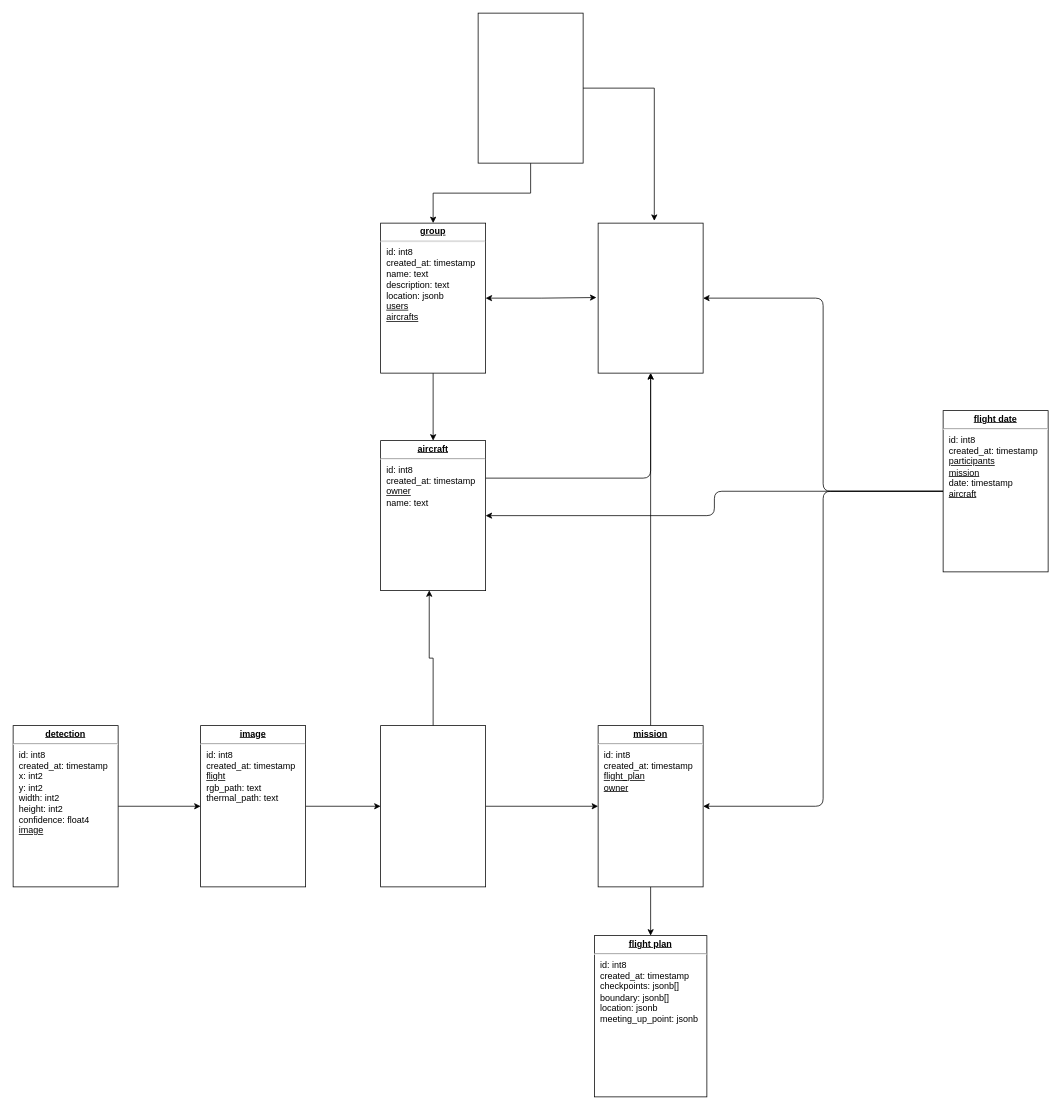
Some shapes in this 1061 by 1110 pixel diagram are drawn without their labels. Each missing label, with the centre of its shape:
"flight id: int8 created_at: timestamp mission start: date end: date aircraft" belongs at point 433,806.
"join_request id: int8 created_at: timestamp group user" belongs at point 530,87.
"user id: int8 created_at: timestamp groups" belongs at point 650,297.
